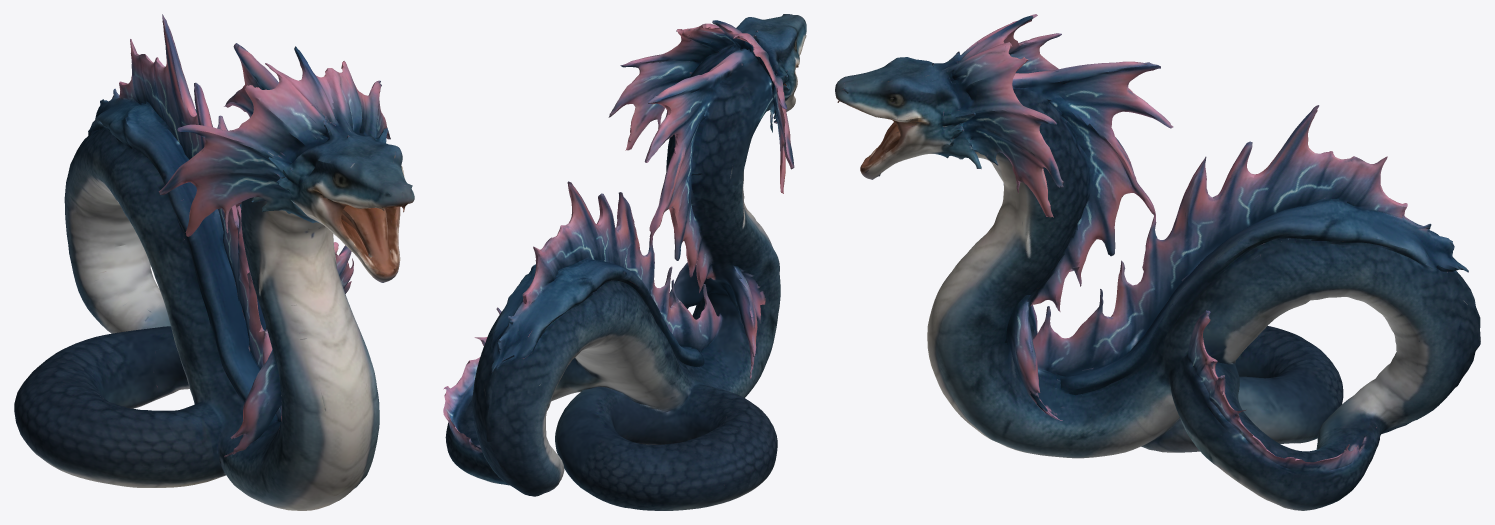
The model's file is tidecoil_b5.glb.
3 views of the same model, side by side, from view 1: azimuth 30°, elevation 25°; view 2: azimuth 150°, elevation 25°; view 3: azimuth 270°, elevation 25° (orthographic). The views are drawn at different scales.
Visible parts, largest first — view 1: Mesh_0; view 2: Mesh_0; view 3: Mesh_0.
Boxes of the visible parts, <box> form: Mesh_0: <box>14,14,414,510</box>; Mesh_0: <box>443,14,806,510</box>; Mesh_0: <box>835,14,1480,510</box>.
Bounding box in the file's own units: 1.09 × 1.39 × 1.89.
1 material, 1 textured.
